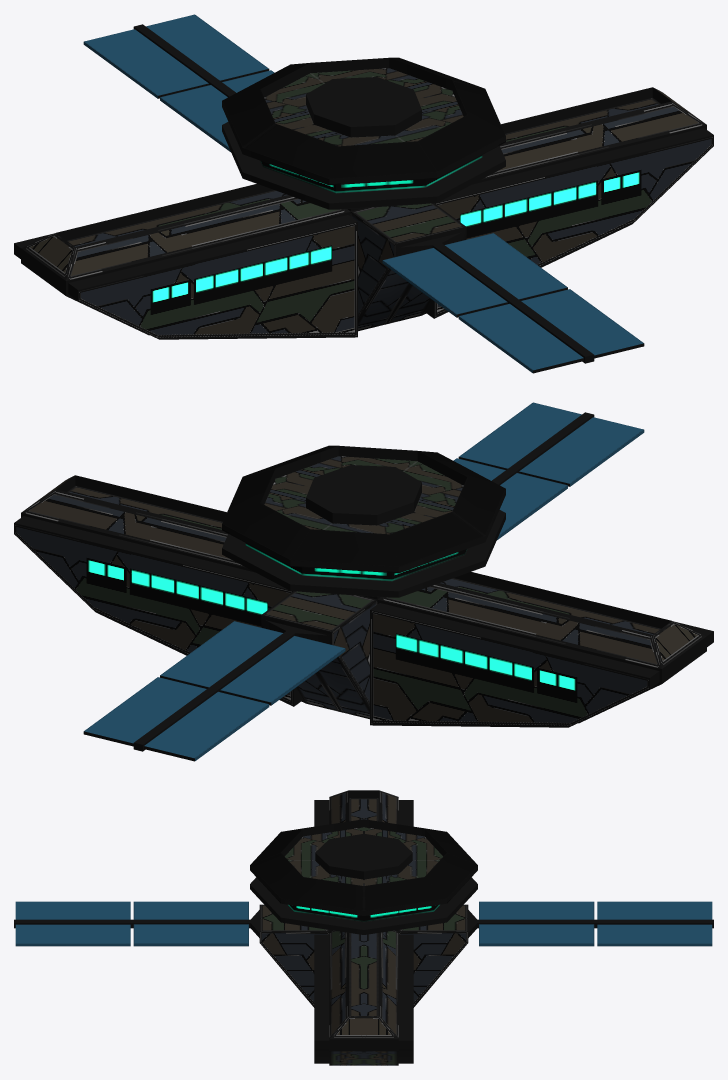
Rendered from Habitation.fbx.
The picture shows the model from 3 angles, top to bottom: view 1: azimuth 30°, elevation 25°; view 2: azimuth 150°, elevation 25°; view 3: azimuth 270°, elevation 25°; orthographic projection. The views are drawn at different scales.
Parts seen in each view (by area): view 1: Cube; view 2: Cube; view 3: Cube.
Part boxes in pixels (x1,y1,x2,y2): Cube: (14,14,713,373); Cube: (14,402,713,761); Cube: (14,790,713,1065).
Size of the model in its own units: 1802 by 553 by 2198.
Materials: 1 (1 with a texture image).
